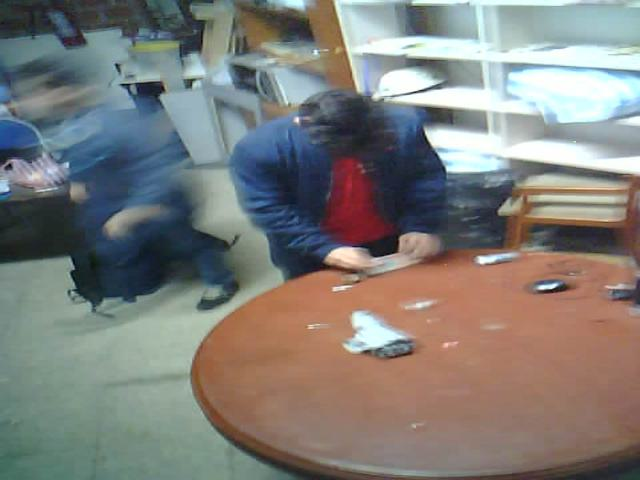person: (5, 51, 248, 314), (214, 70, 469, 289)
